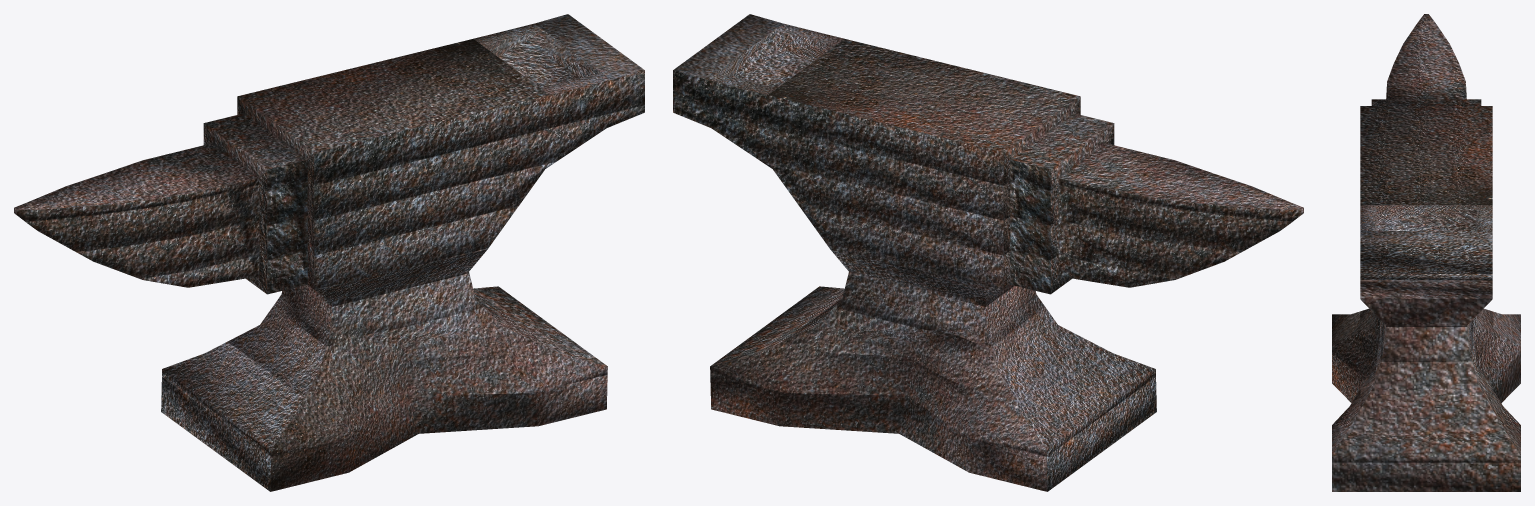
File: AnvilAnimation_Modular.glb
3 renders of one model, left to right at view 1: azimuth 30°, elevation 25°; view 2: azimuth 150°, elevation 25°; view 3: azimuth 270°, elevation 25°, orthographic. The views are drawn at different scales.
Parts seen in each view (by area): view 1: BA_Roof_01, BA_Floor_02, BA_Trim_02, BA_Floor_01, BA_Trim_01, BA_Wall_01, BA_Wall_04, BA_Wall_02, BA_Wall_03; view 2: BA_Roof_01, BA_Floor_02, BA_Trim_02, BA_Floor_01, BA_Trim_01, BA_Wall_01, BA_Wall_04, BA_Wall_02, BA_Wall_03; view 3: BA_Roof_01, BA_Floor_02, BA_Floor_01, BA_Wall_01, BA_Wall_02, BA_Wall_03, BA_Wall_04, BA_Trim_02, BA_Trim_01.
Boxes of the visible parts, <box> form: BA_Roof_01: <box>14,14,644,221</box>; BA_Floor_02: <box>162,286,607,456</box>; BA_Trim_02: <box>25,105,644,251</box>; BA_Floor_01: <box>161,375,607,491</box>; BA_Trim_01: <box>76,162,555,278</box>; BA_Wall_01: <box>227,298,534,397</box>; BA_Wall_04: <box>140,206,518,294</box>; BA_Wall_02: <box>273,273,483,346</box>; BA_Wall_03: <box>303,248,487,306</box>; BA_Roof_01: <box>673,14,1303,221</box>; BA_Floor_02: <box>710,286,1155,456</box>; BA_Trim_02: <box>673,105,1292,251</box>; BA_Floor_01: <box>710,375,1156,491</box>; BA_Trim_01: <box>762,162,1241,278</box>; BA_Wall_01: <box>783,298,1090,397</box>; BA_Wall_04: <box>799,206,1177,294</box>; BA_Wall_02: <box>834,273,1044,346</box>; BA_Wall_03: <box>830,248,1014,306</box>; BA_Roof_01: <box>1360,14,1492,273</box>; BA_Floor_02: <box>1332,311,1520,462</box>; BA_Floor_01: <box>1332,353,1520,491</box>; BA_Wall_01: <box>1360,308,1492,408</box>; BA_Wall_02: <box>1380,320,1472,361</box>; BA_Wall_03: <box>1360,298,1492,326</box>; BA_Wall_04: <box>1360,281,1492,298</box>; BA_Trim_02: <box>1360,274,1492,280</box>; BA_Trim_01: <box>1360,280,1492,281</box>.
Size of the model in its own units: 1.67 by 0.8474 by 0.5341.
Materials: 1 (1 with a texture image).
